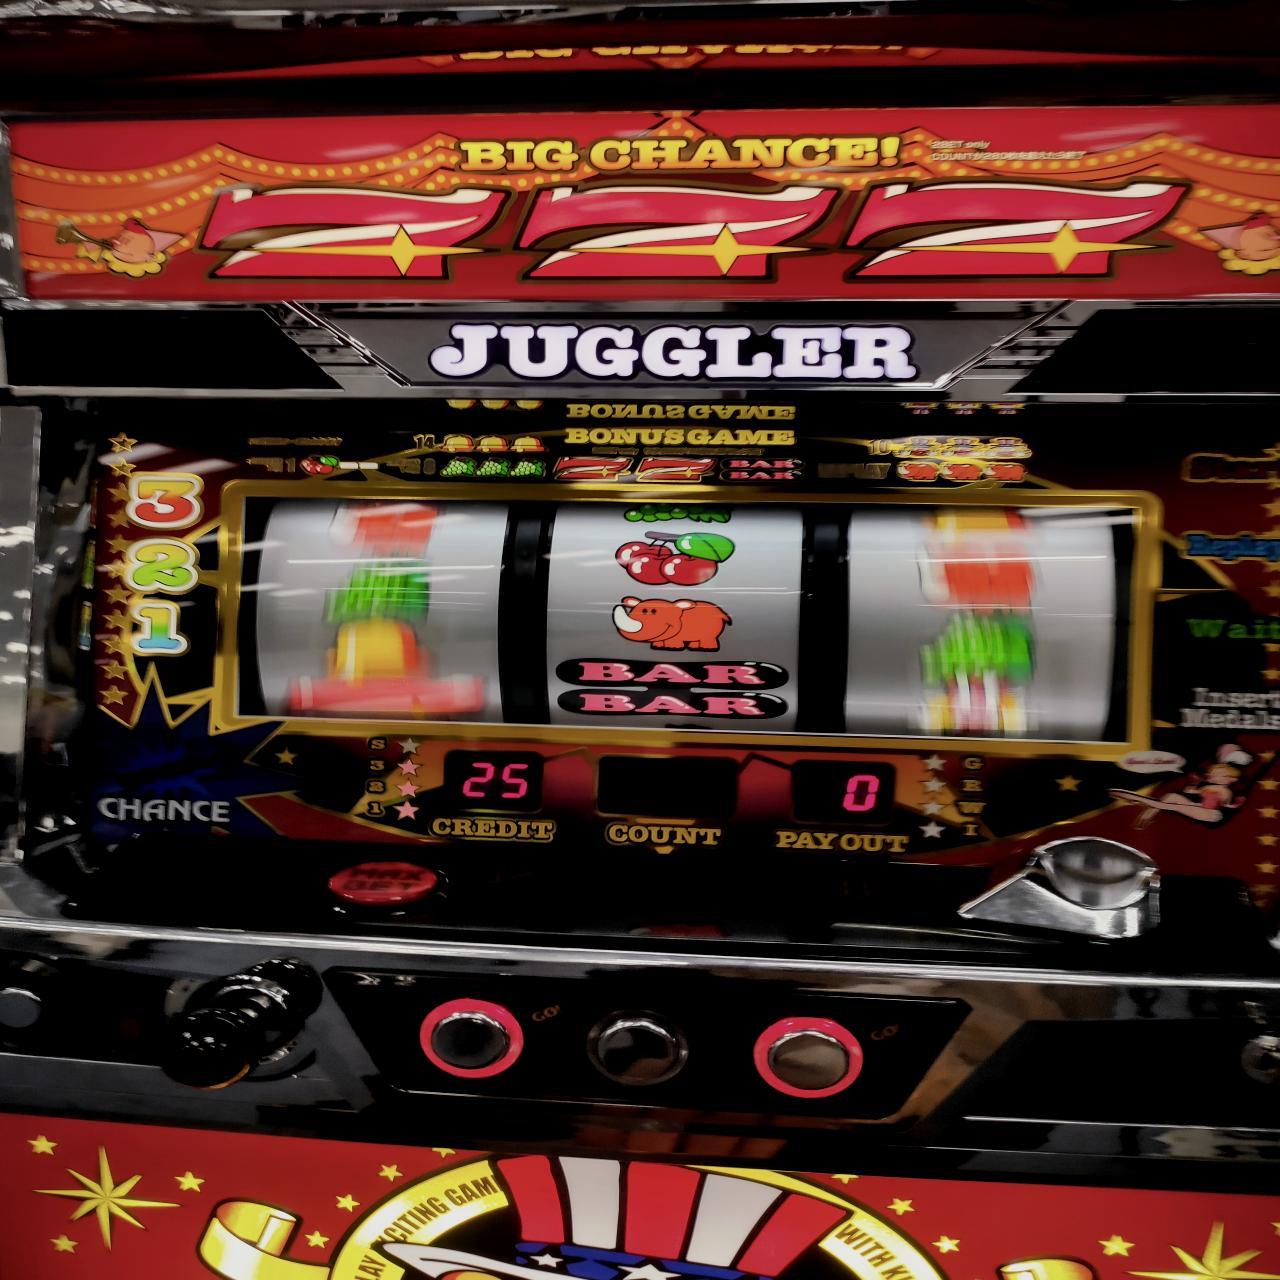8: (607, 595, 735, 649)
bar: (552, 658, 790, 722)
cherry: (613, 529, 735, 584)
rhino: (224, 475, 1141, 761)
